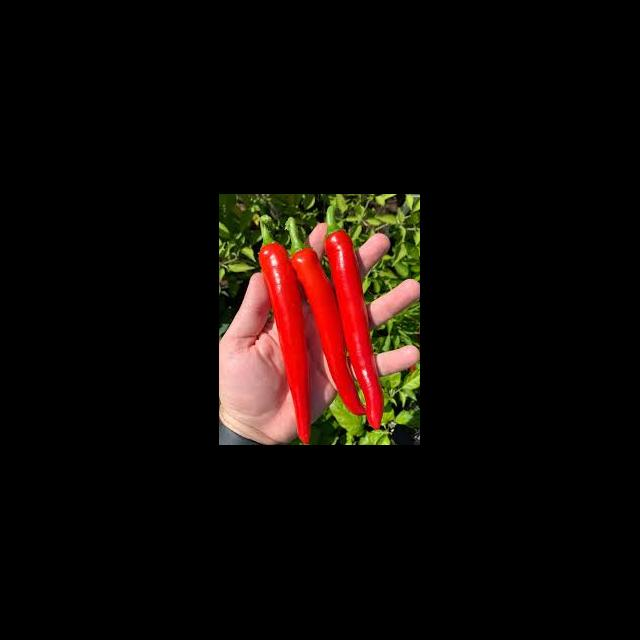chili_pepper: (288, 253, 363, 417), (324, 230, 379, 428), (256, 242, 310, 440)
